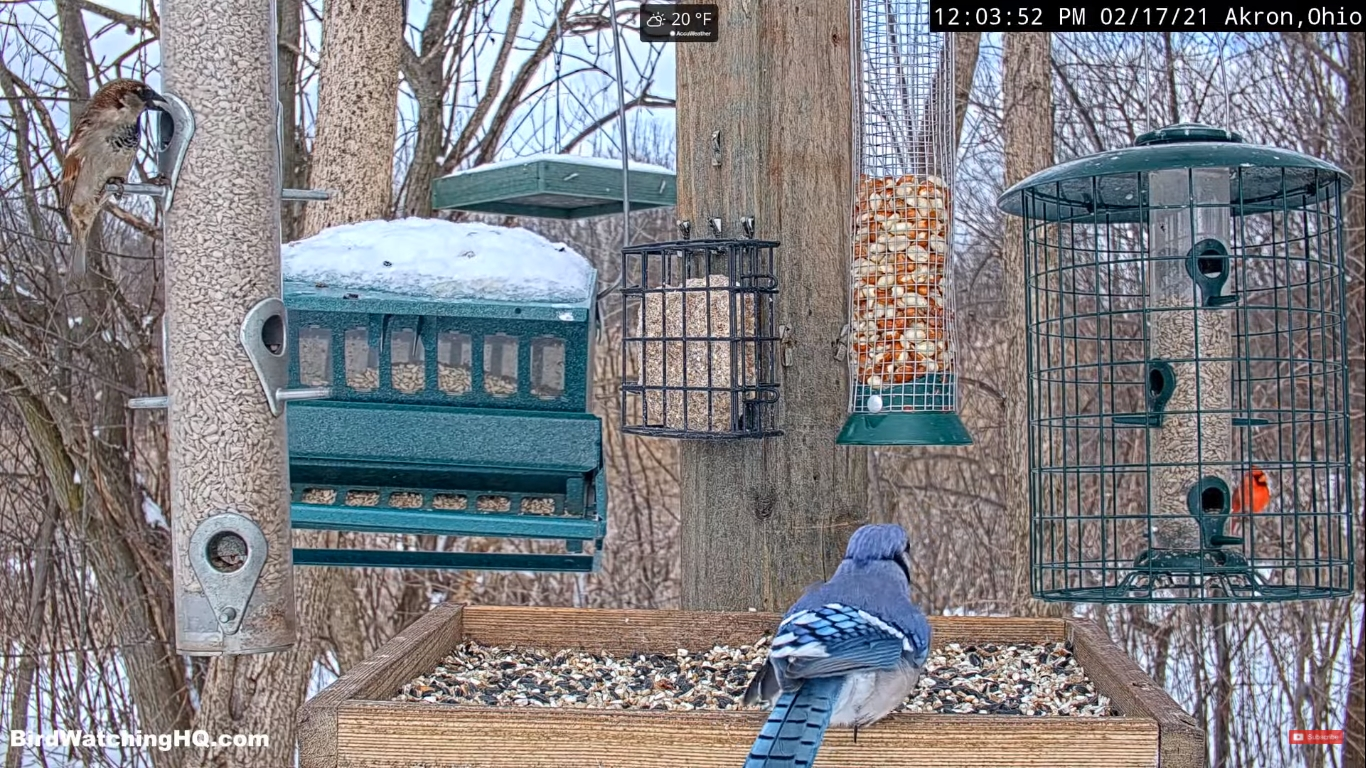bird: (738, 521, 931, 768), (59, 78, 168, 289)
